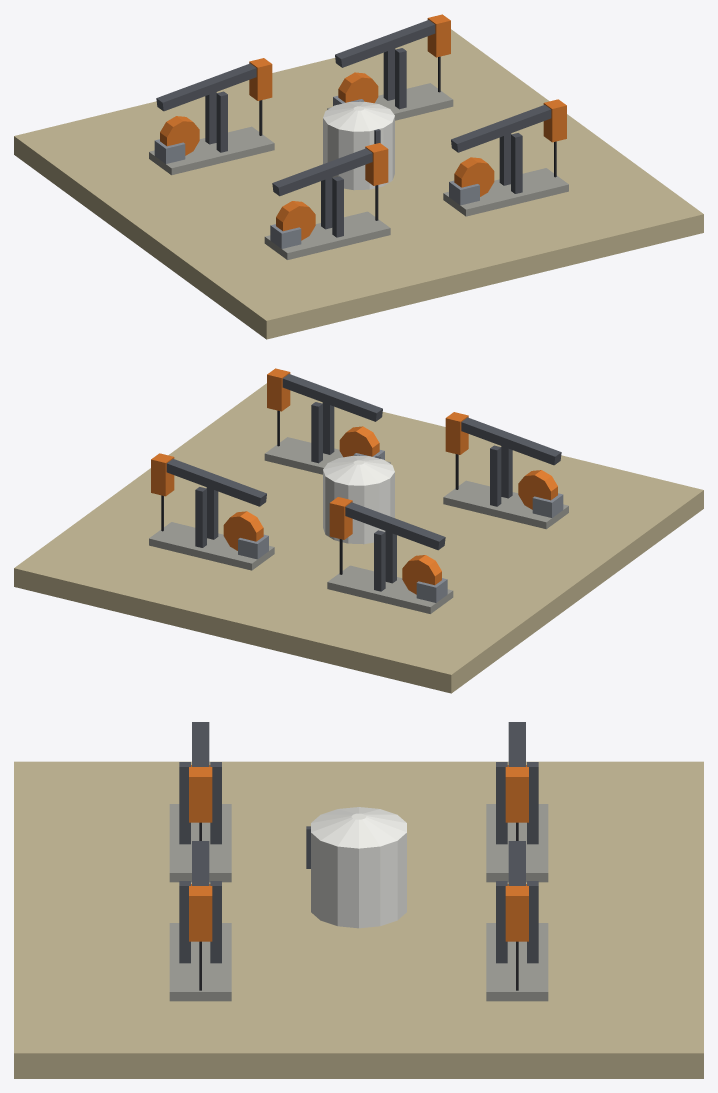
File: oil_rent_3.glb
3 renders of one model, top to bottom at view 1: azimuth 30°, elevation 25°; view 2: azimuth 150°, elevation 25°; view 3: azimuth 270°, elevation 25°, orthographic. The views are drawn at different scales.
Parts seen in each view (by area): view 1: oil_rent_3; view 2: oil_rent_3; view 3: oil_rent_3.
Boxes of the visible parts, x1,y1,x2,y2 form: oil_rent_3: [14, 14, 703, 339]; oil_rent_3: [14, 368, 703, 693]; oil_rent_3: [14, 722, 703, 1078].
Bounding box in the file's own units: 1.96 × 0.421 × 1.96.
